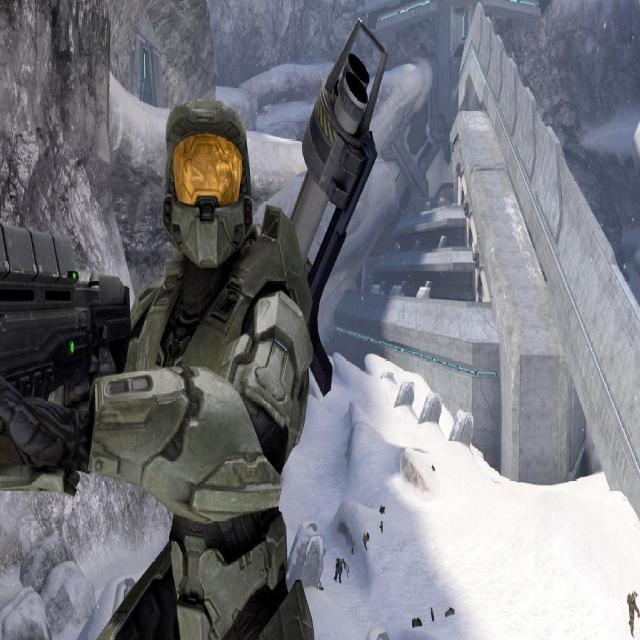weapon: (0, 215, 130, 396)
